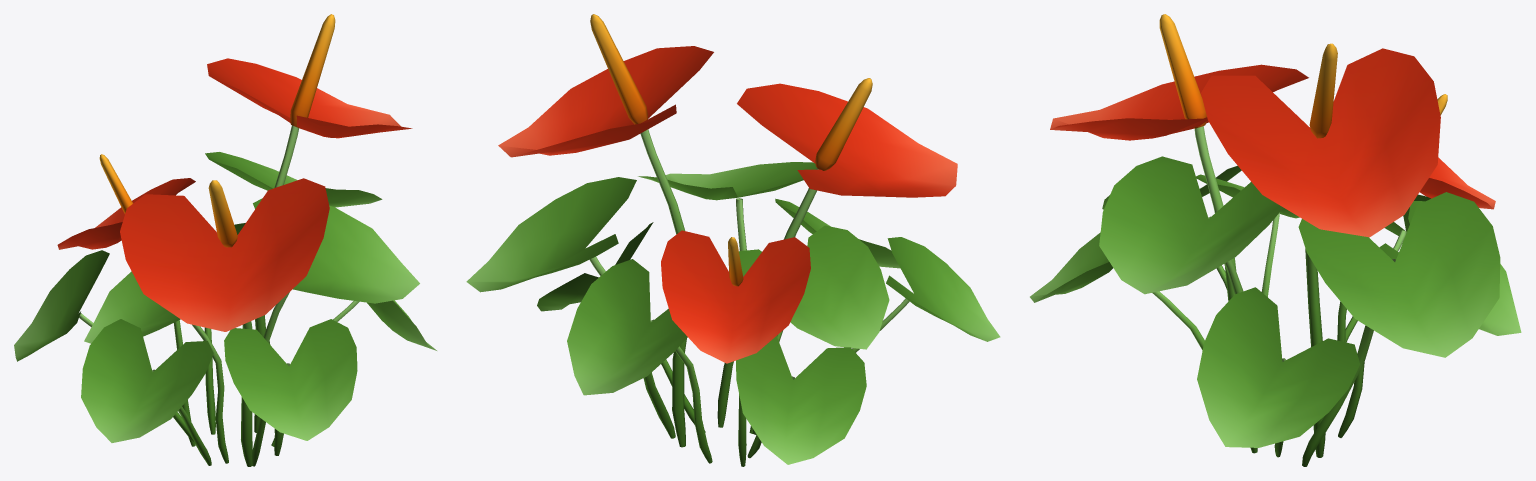
The model's file is flower (1).fbx.
3 renders of one model, left to right at view 1: azimuth 30°, elevation 25°; view 2: azimuth 150°, elevation 25°; view 3: azimuth 270°, elevation 25°, orthographic. The views are drawn at different scales.
Parts seen in each view (by area): view 1: 02_Anthurium; view 2: 02_Anthurium; view 3: 02_Anthurium.
Part boxes in pixels (x1,y1,x2,y2): 02_Anthurium: [14, 14, 436, 466]; 02_Anthurium: [466, 14, 1000, 466]; 02_Anthurium: [1030, 14, 1521, 466].
Bounding box in the file's own units: 126 × 126 × 122.
